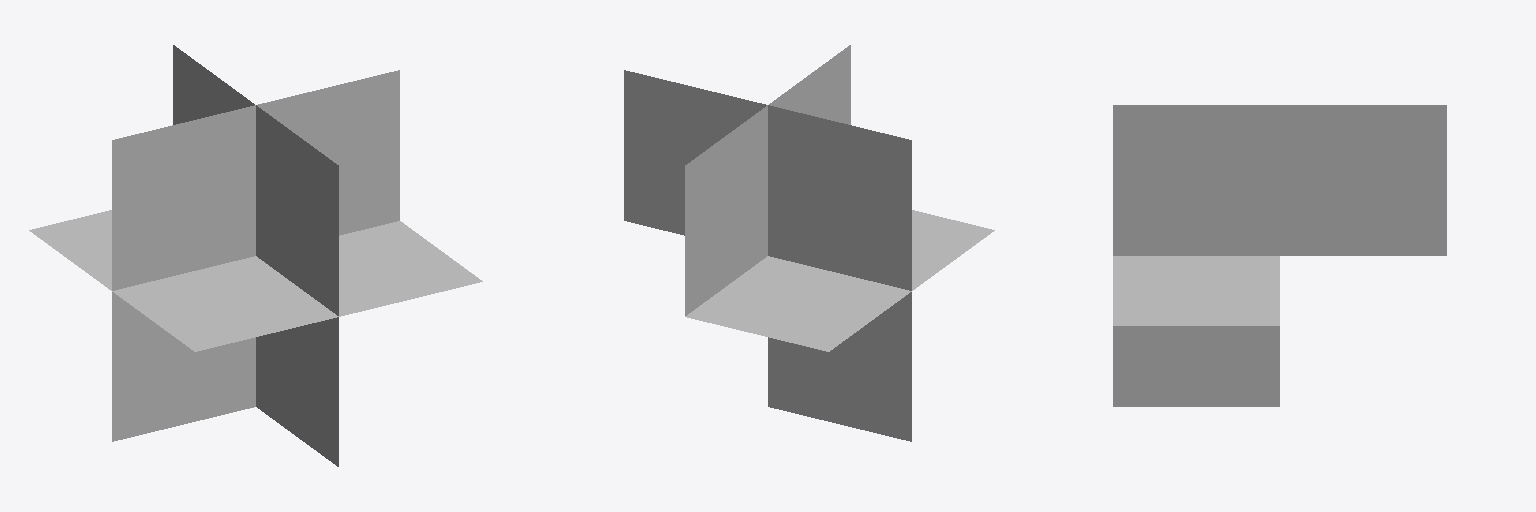
The picture shows the model from 3 angles: view 1: azimuth 30°, elevation 25°; view 2: azimuth 150°, elevation 25°; view 3: azimuth 270°, elevation 25°; orthographic projection.
Parts seen in each view (by area): view 1: 1010_0100_立方体.087; view 2: 1010_0100_立方体.087; view 3: 1010_0100_立方体.087.
Part boxes in pixels (x1,y1,x2,y2): 1010_0100_立方体.087: (29, 45, 482, 466); 1010_0100_立方体.087: (624, 45, 994, 441); 1010_0100_立方体.087: (1113, 105, 1446, 406).
Size of the model in its own units: 1 by 1 by 1.